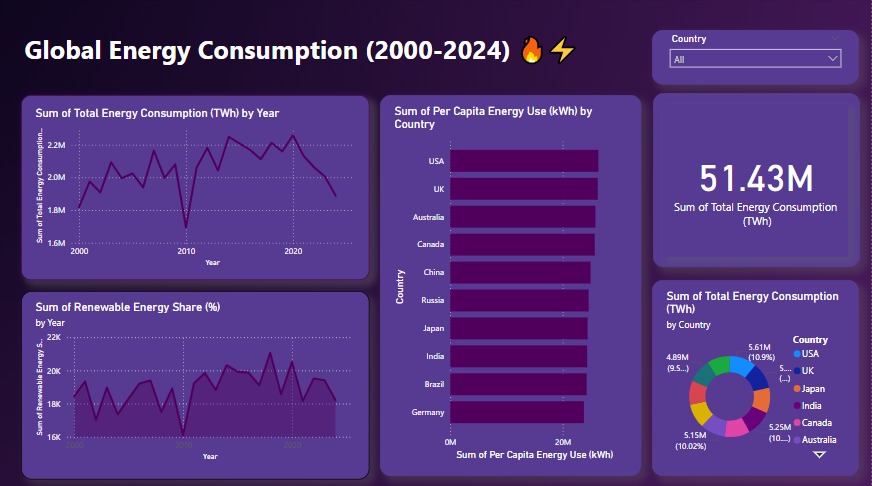

This screenshot's page, from the dashboard's own definition file:
{"tool":"powerbi","page":{"name":"Page 1","canvas":[1280,720],"ordinal":0},"visuals":[{"type":"shape","box":[960,416,304,288],"z":0},{"type":"shape","box":[960.3,140.9,304,256],"z":1000},{"type":"shape","box":[560,144,384,560],"z":2000},{"type":"shape","box":[960,48,304,80],"z":3000},{"type":"shape","box":[32,432,512,277],"z":4000},{"type":"shape","box":[32,144,512,272],"z":5000},{"type":"textbox","box":[32.3,44.9,848,64],"z":6000},{"type":"lineChart","fields":{"Category":["global_energy_consumption.Year"],"Y":["Sum(global_energy_consumption.Total Energy Consumption (TWh))"]},"box":[48,160,480,240],"z":7000},{"type":"barChart","fields":{"Category":["global_energy_consumption.Country"],"Y":["Sum(global_energy_consumption.Per Capita Energy Use (kWh))"]},"box":[576.3,156.9,352,528],"z":8000},{"type":"areaChart","fields":{"Category":["global_energy_consumption.Year"],"Y":["Sum(global_energy_consumption.Renewable Energy Share (%))"]},"box":[48.3,444.9,480,240],"z":9000},{"type":"card","fields":{"Values":["Sum(global_energy_consumption.Total Energy Consumption (TWh))"]},"box":[976.3,156.9,272,224],"z":10000},{"type":"donutChart","fields":{"Y":["Sum(global_energy_consumption.Total Energy Consumption (TWh))"],"Category":["global_energy_consumption.Country"]},"box":[976.3,428.9,272,256],"z":11000},{"type":"slicer","fields":{"Values":["global_energy_consumption.Country"]},"box":[976,48,272,80],"z":12000}]}

Visuals, with their boxes in screenshot pixels (x1, y1, x2, y2), scaled from the page's 1280x720 canvas onto the 872x486 screenshot:
shape: select_region(654, 281, 861, 475)
shape: select_region(654, 95, 861, 268)
shape: select_region(382, 97, 643, 475)
shape: select_region(654, 32, 861, 86)
shape: select_region(22, 292, 371, 479)
shape: select_region(22, 97, 371, 281)
textbox: select_region(22, 30, 600, 74)
lineChart - global_energy_consumption.Year x Sum(global_energy_consumption.Total Energy Consumption (TWh)): select_region(33, 108, 360, 270)
barChart - global_energy_consumption.Country x Sum(global_energy_consumption.Per Capita Energy Use (kWh)): select_region(393, 106, 632, 462)
areaChart - global_energy_consumption.Year x Sum(global_energy_consumption.Renewable Energy Share (%)): select_region(33, 300, 360, 462)
card - Sum(global_energy_consumption.Total Energy Consumption (TWh)): select_region(665, 106, 850, 257)
donutChart - Sum(global_energy_consumption.Total Energy Consumption (TWh)) x global_energy_consumption.Country: select_region(665, 290, 850, 462)
slicer - global_energy_consumption.Country: select_region(665, 32, 850, 86)
